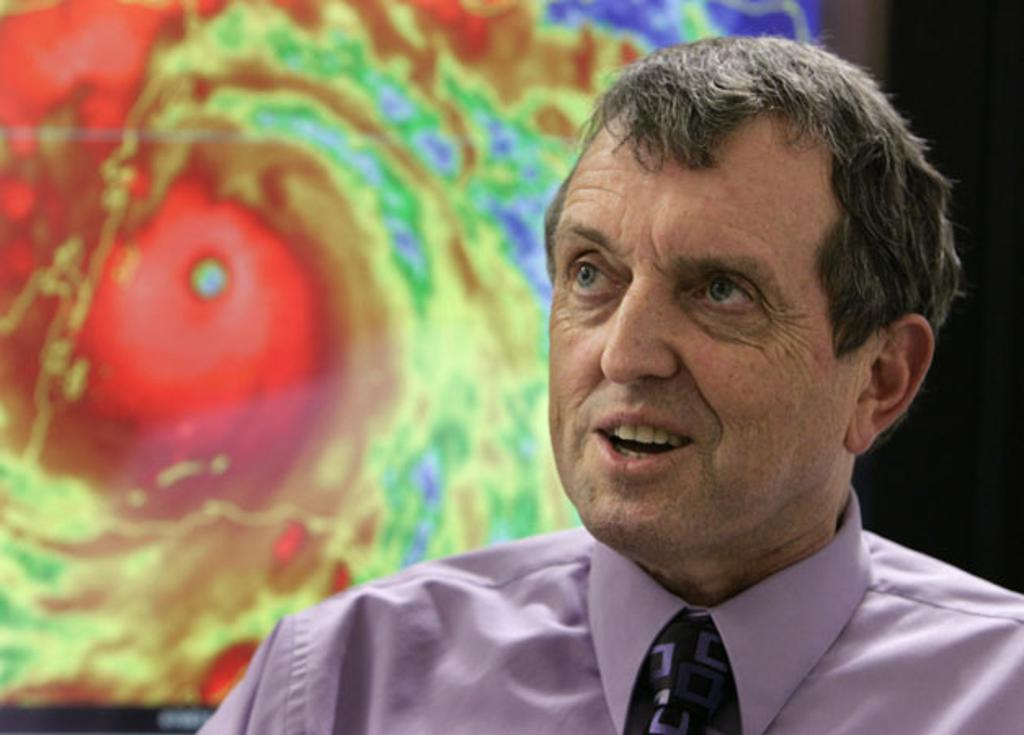face: (554, 116, 860, 556)
